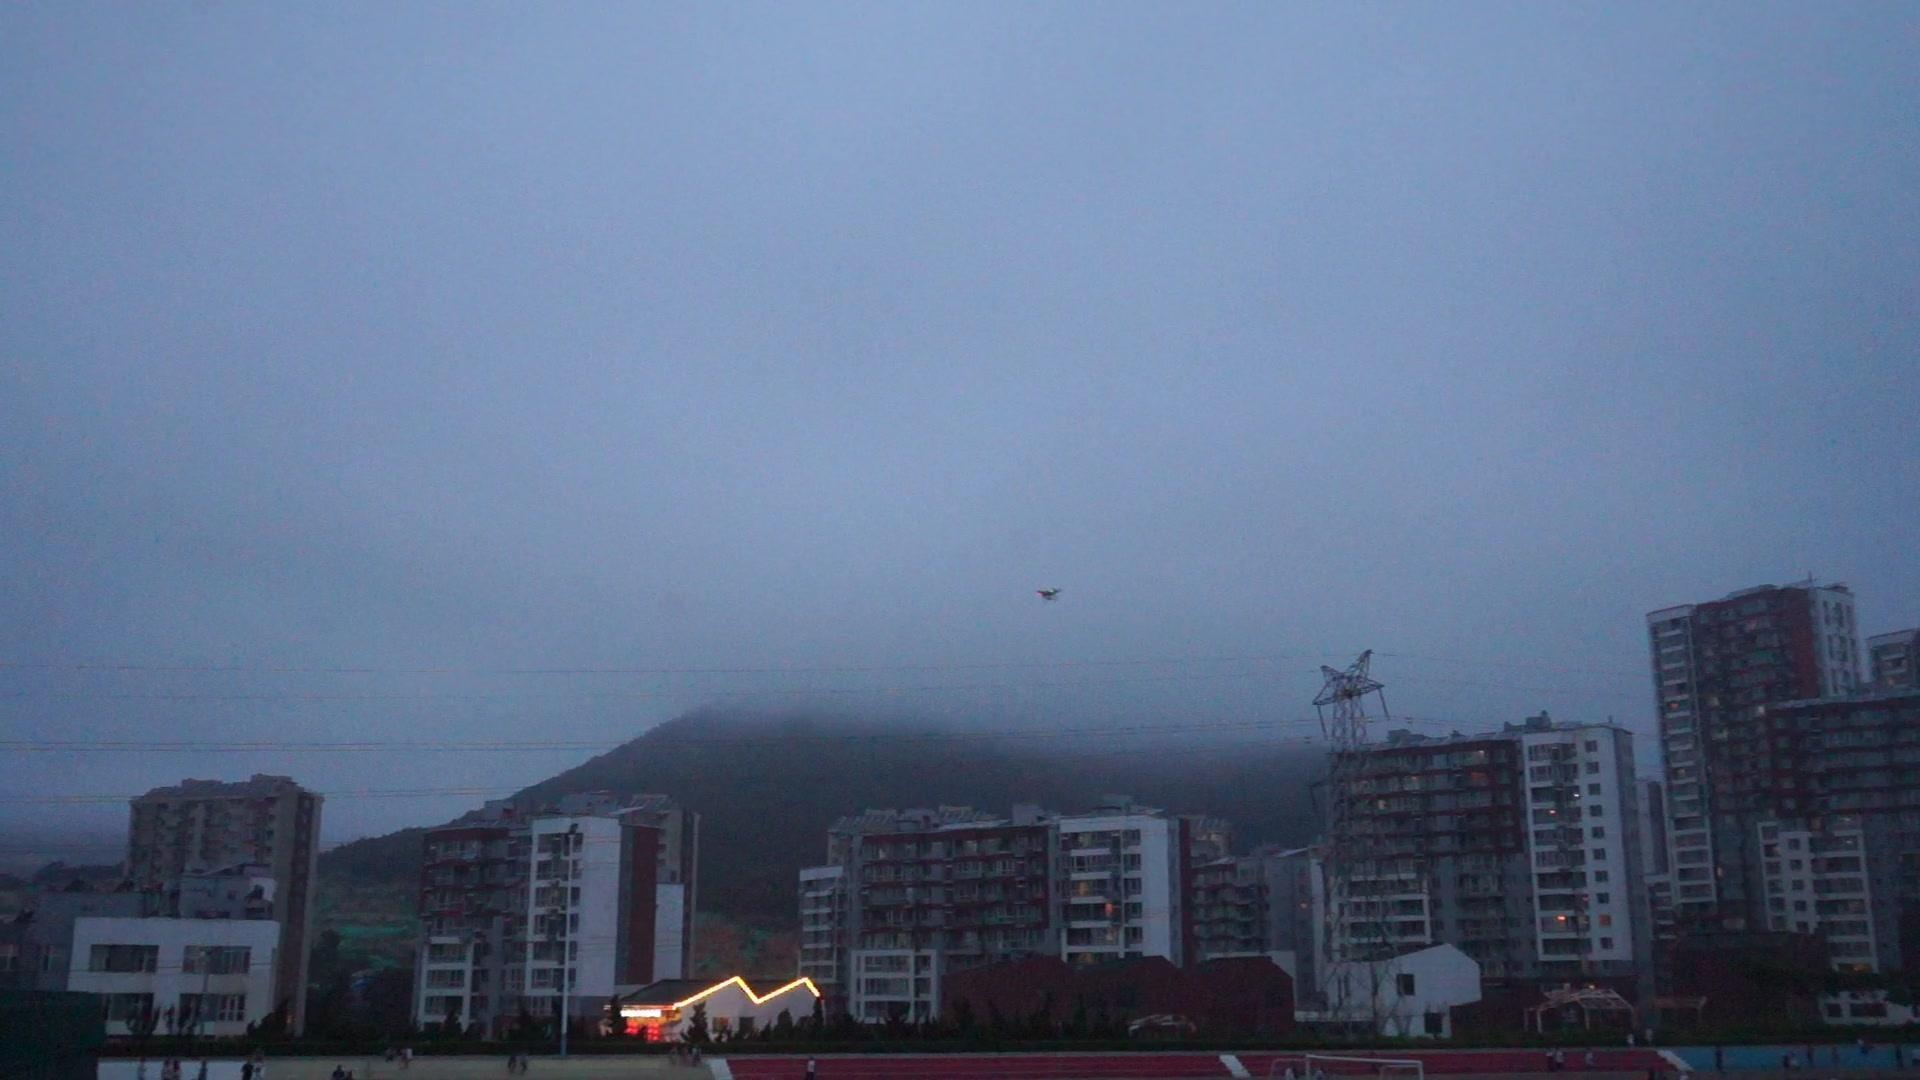UAV: (1036, 588, 1065, 603)
